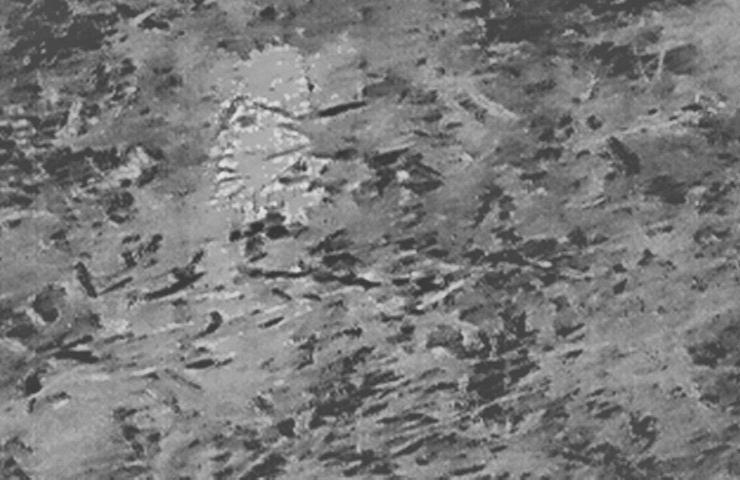landmines: (208, 94, 335, 228)
